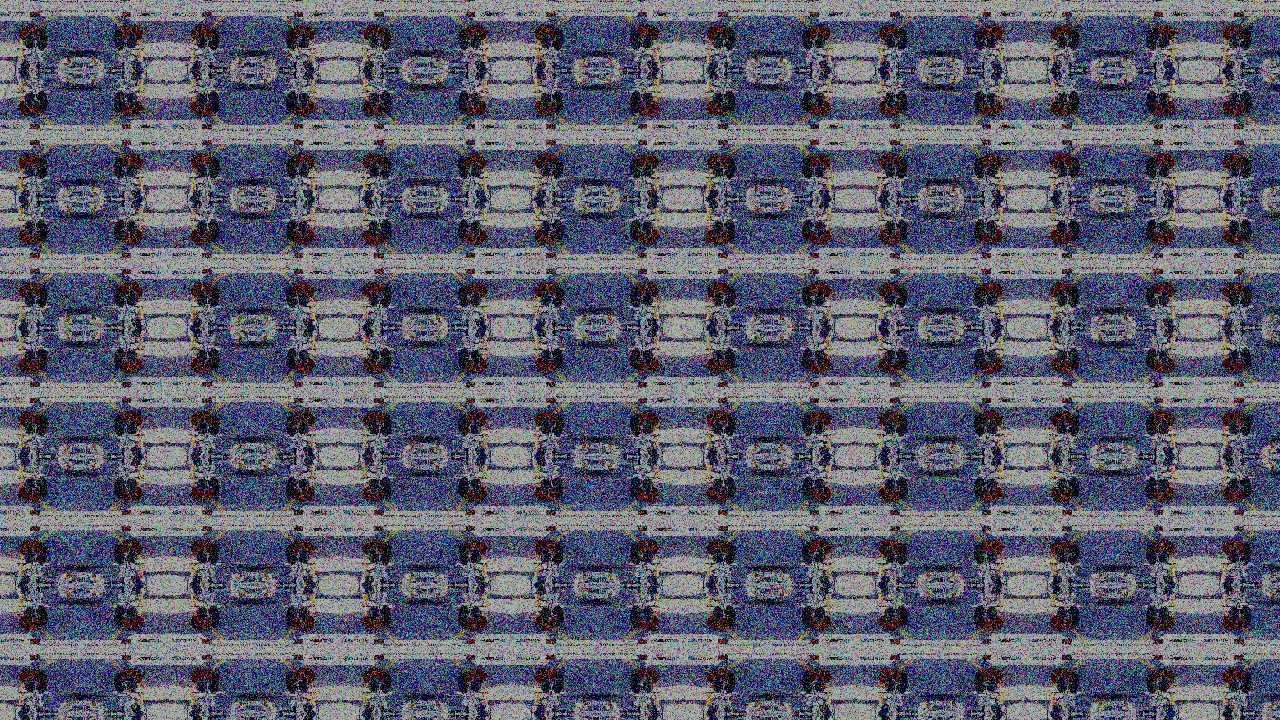chock: (18, 23, 38, 33), (292, 23, 312, 33), (536, 23, 556, 33), (810, 23, 830, 33), (1054, 23, 1074, 33), (18, 105, 38, 115), (292, 105, 312, 115), (536, 105, 556, 115), (810, 105, 830, 115), (1054, 105, 1074, 115), (18, 234, 38, 244), (292, 234, 312, 244), (536, 234, 556, 244), (810, 234, 830, 244), (1054, 234, 1074, 244), (18, 282, 38, 292), (292, 282, 312, 292), (536, 282, 556, 292), (810, 282, 830, 292), (1054, 282, 1074, 292), (18, 411, 38, 421), (292, 411, 312, 421), (536, 411, 556, 421), (810, 411, 830, 421), (1054, 411, 1074, 421), (18, 493, 38, 503), (292, 493, 312, 503), (536, 493, 556, 503), (810, 493, 830, 503), (1054, 493, 1074, 503), (18, 622, 38, 632), (292, 622, 312, 632), (536, 622, 556, 632), (810, 622, 830, 632), (1054, 622, 1074, 632), (18, 670, 38, 680), (292, 670, 312, 680), (536, 670, 556, 680), (810, 670, 830, 680), (1054, 670, 1074, 680), (120, 23, 139, 33), (191, 23, 210, 33), (364, 23, 383, 33), (465, 23, 484, 33), (638, 23, 657, 33), (709, 23, 728, 33), (882, 23, 901, 33), (983, 23, 1002, 33), (1156, 23, 1175, 33), (1227, 23, 1246, 33), (120, 105, 139, 115), (191, 105, 210, 115), (364, 105, 383, 115), (465, 105, 484, 115), (638, 105, 657, 115), (709, 105, 728, 115), (882, 105, 901, 115), (983, 105, 1002, 115), (1156, 105, 1175, 115), (1227, 105, 1246, 115), (120, 234, 139, 244), (191, 234, 210, 244), (364, 234, 383, 244), (465, 234, 484, 244), (638, 234, 657, 244), (709, 234, 728, 244), (882, 234, 901, 244), (983, 234, 1002, 244), (1156, 234, 1175, 244), (1227, 234, 1246, 244), (120, 282, 139, 292), (191, 282, 210, 292), (364, 282, 383, 292), (465, 282, 484, 292), (638, 282, 657, 292), (709, 282, 728, 292), (882, 282, 901, 292), (983, 282, 1002, 292), (1156, 282, 1175, 292), (1227, 282, 1246, 292), (120, 411, 139, 421), (191, 411, 210, 421), (364, 411, 383, 421), (465, 411, 484, 421), (638, 411, 657, 421), (709, 411, 728, 421), (882, 411, 901, 421), (983, 411, 1002, 421), (1156, 411, 1175, 421), (1227, 411, 1246, 421), (120, 493, 139, 503), (191, 493, 210, 503), (364, 493, 383, 503), (465, 493, 484, 503), (638, 493, 657, 503), (709, 493, 728, 503), (882, 493, 901, 503), (983, 493, 1002, 503), (1156, 493, 1175, 503), (1227, 493, 1246, 503), (120, 622, 139, 632), (191, 622, 210, 632), (364, 622, 383, 632), (465, 622, 484, 632), (638, 622, 657, 632), (709, 622, 728, 632), (882, 622, 901, 632), (983, 622, 1002, 632), (1156, 622, 1175, 632), (1227, 622, 1246, 632), (120, 670, 139, 680), (191, 670, 210, 680), (364, 670, 383, 680), (465, 670, 484, 680), (638, 670, 657, 680), (709, 670, 728, 680), (882, 670, 901, 680), (983, 670, 1002, 680), (1156, 670, 1175, 680), (1227, 670, 1246, 680), (18, 153, 38, 162), (292, 153, 312, 162), (536, 153, 556, 162), (810, 153, 830, 162), (1054, 153, 1074, 162), (18, 364, 38, 373), (292, 364, 312, 373), (536, 364, 556, 373), (810, 364, 830, 373), (1054, 364, 1074, 373), (18, 541, 38, 550), (292, 541, 312, 550), (536, 541, 556, 550), (810, 541, 830, 550), (1054, 541, 1074, 550), (120, 153, 139, 162), (191, 153, 210, 162), (364, 153, 383, 162), (465, 153, 484, 162), (638, 153, 657, 162), (709, 153, 728, 162), (882, 153, 901, 162), (983, 153, 1002, 162), (1156, 153, 1175, 162), (1227, 153, 1246, 162), (120, 364, 139, 373), (191, 364, 210, 373), (364, 364, 383, 373), (465, 364, 484, 373), (638, 364, 657, 373), (709, 364, 728, 373), (882, 364, 901, 373), (983, 364, 1002, 373), (1156, 364, 1175, 373), (1227, 364, 1246, 373), (120, 541, 139, 550), (191, 541, 210, 550), (364, 541, 383, 550), (465, 541, 484, 550), (638, 541, 657, 550), (709, 541, 728, 550), (882, 541, 901, 550), (983, 541, 1002, 550), (1156, 541, 1175, 550), (1227, 541, 1246, 550), (15, 28, 24, 38), (306, 28, 315, 38), (533, 28, 542, 38), (824, 28, 833, 38), (1051, 28, 1060, 38), (15, 100, 24, 110), (306, 100, 315, 110), (533, 100, 542, 110), (824, 100, 833, 110), (1051, 100, 1060, 110), (15, 158, 24, 168), (306, 158, 315, 168), (533, 158, 542, 168), (824, 158, 833, 168), (1051, 158, 1060, 168), (15, 229, 24, 239), (306, 229, 315, 239), (533, 229, 542, 239), (824, 229, 833, 239), (1051, 229, 1060, 239), (15, 287, 24, 297), (306, 287, 315, 297), (533, 287, 542, 297), (824, 287, 833, 297), (1051, 287, 1060, 297), (15, 358, 24, 368), (306, 358, 315, 368), (533, 358, 542, 368), (824, 358, 833, 368), (1051, 358, 1060, 368), (15, 416, 24, 426), (306, 416, 315, 426), (533, 416, 542, 426), (824, 416, 833, 426), (1051, 416, 1060, 426), (15, 488, 24, 498), (306, 488, 315, 498), (533, 488, 542, 498), (824, 488, 833, 498), (1051, 488, 1060, 498), (15, 546, 24, 556), (306, 546, 315, 556), (533, 546, 542, 556), (824, 546, 833, 556), (1051, 546, 1060, 556), (15, 617, 24, 627), (306, 617, 315, 627), (533, 617, 542, 627), (824, 617, 833, 627), (1051, 617, 1060, 627), (15, 675, 24, 685), (306, 675, 315, 685), (533, 675, 542, 685), (824, 675, 833, 685), (1051, 675, 1060, 685), (134, 28, 142, 38), (188, 28, 196, 38), (361, 28, 369, 38), (479, 28, 487, 38), (652, 28, 660, 38), (706, 28, 714, 38), (879, 28, 887, 38), (997, 28, 1005, 38), (1170, 28, 1178, 38), (1224, 28, 1232, 38), (134, 100, 142, 110), (188, 100, 196, 110), (361, 100, 369, 110), (479, 100, 487, 110), (652, 100, 660, 110), (706, 100, 714, 110), (879, 100, 887, 110), (997, 100, 1005, 110), (1170, 100, 1178, 110), (1224, 100, 1232, 110), (134, 158, 142, 168), (120, 157, 128, 167), (188, 158, 196, 168), (202, 157, 210, 167), (361, 158, 369, 168), (375, 157, 383, 167), (479, 158, 487, 168), (465, 157, 473, 167), (652, 158, 660, 168), (638, 157, 646, 167), (706, 158, 714, 168), (720, 157, 728, 167), (879, 158, 887, 168), (893, 157, 901, 167), (997, 158, 1005, 168), (983, 157, 991, 167), (1170, 158, 1178, 168), (1156, 157, 1164, 167), (1224, 158, 1232, 168), (1238, 157, 1246, 167), (134, 229, 142, 239), (188, 229, 196, 239), (361, 229, 369, 239), (479, 229, 487, 239), (652, 229, 660, 239), (706, 229, 714, 239), (879, 229, 887, 239), (997, 229, 1005, 239), (1170, 229, 1178, 239), (1224, 229, 1232, 239), (134, 287, 142, 297), (188, 287, 196, 297), (361, 287, 369, 297), (479, 287, 487, 297), (652, 287, 660, 297), (706, 287, 714, 297), (879, 287, 887, 297), (997, 287, 1005, 297), (1170, 287, 1178, 297), (1224, 287, 1232, 297), (134, 358, 142, 368), (120, 359, 128, 369), (188, 358, 196, 368), (202, 359, 210, 369), (361, 358, 369, 368), (375, 359, 383, 369), (479, 358, 487, 368), (465, 359, 473, 369), (652, 358, 660, 368), (638, 359, 646, 369), (706, 358, 714, 368), (720, 359, 728, 369), (879, 358, 887, 368), (893, 359, 901, 369), (997, 358, 1005, 368), (983, 359, 991, 369), (1170, 358, 1178, 368), (1156, 359, 1164, 369), (1224, 358, 1232, 368), (1238, 359, 1246, 369), (134, 416, 142, 426), (188, 416, 196, 426), (361, 416, 369, 426), (479, 416, 487, 426), (652, 416, 660, 426), (706, 416, 714, 426), (879, 416, 887, 426), (997, 416, 1005, 426), (1170, 416, 1178, 426), (1224, 416, 1232, 426), (134, 488, 142, 498), (188, 488, 196, 498), (361, 488, 369, 498), (479, 488, 487, 498), (652, 488, 660, 498), (706, 488, 714, 498), (879, 488, 887, 498), (997, 488, 1005, 498), (1170, 488, 1178, 498), (1224, 488, 1232, 498), (134, 546, 142, 556), (120, 545, 128, 555), (188, 546, 196, 556), (202, 545, 210, 555), (361, 546, 369, 556), (375, 545, 383, 555), (479, 546, 487, 556), (465, 545, 473, 555), (652, 546, 660, 556), (638, 545, 646, 555), (706, 546, 714, 556), (720, 545, 728, 555), (879, 546, 887, 556), (893, 545, 901, 555), (997, 546, 1005, 556), (983, 545, 991, 555), (1170, 546, 1178, 556), (1156, 545, 1164, 555), (1224, 546, 1232, 556), (1238, 545, 1246, 555), (134, 617, 142, 627), (188, 617, 196, 627), (361, 617, 369, 627), (479, 617, 487, 627), (652, 617, 660, 627), (706, 617, 714, 627), (879, 617, 887, 627), (997, 617, 1005, 627), (1170, 617, 1178, 627), (1224, 617, 1232, 627), (134, 675, 142, 685), (188, 675, 196, 685), (361, 675, 369, 685), (479, 675, 487, 685), (652, 675, 660, 685), (706, 675, 714, 685), (879, 675, 887, 685), (997, 675, 1005, 685), (1170, 675, 1178, 685), (1224, 675, 1232, 685), (120, 28, 128, 37), (202, 28, 210, 37), (375, 28, 383, 37), (465, 28, 473, 37), (638, 28, 646, 37), (720, 28, 728, 37), (893, 28, 901, 37), (983, 28, 991, 37), (1156, 28, 1164, 37), (1238, 28, 1246, 37), (120, 101, 128, 110), (202, 101, 210, 110), (375, 101, 383, 110), (465, 101, 473, 110), (638, 101, 646, 110), (720, 101, 728, 110), (893, 101, 901, 110), (983, 101, 991, 110), (1156, 101, 1164, 110), (1238, 101, 1246, 110), (120, 230, 128, 239), (202, 230, 210, 239), (375, 230, 383, 239), (465, 230, 473, 239), (638, 230, 646, 239), (720, 230, 728, 239), (893, 230, 901, 239), (983, 230, 991, 239), (1156, 230, 1164, 239), (1238, 230, 1246, 239), (120, 287, 128, 296), (202, 287, 210, 296), (375, 287, 383, 296), (465, 287, 473, 296), (638, 287, 646, 296), (720, 287, 728, 296), (893, 287, 901, 296), (983, 287, 991, 296), (1156, 287, 1164, 296), (1238, 287, 1246, 296), (120, 416, 128, 425), (202, 416, 210, 425), (375, 416, 383, 425), (465, 416, 473, 425), (638, 416, 646, 425), (720, 416, 728, 425), (893, 416, 901, 425), (983, 416, 991, 425), (1156, 416, 1164, 425), (1238, 416, 1246, 425), (120, 489, 128, 498), (202, 489, 210, 498), (375, 489, 383, 498), (465, 489, 473, 498), (638, 489, 646, 498), (720, 489, 728, 498), (893, 489, 901, 498), (983, 489, 991, 498), (1156, 489, 1164, 498), (1238, 489, 1246, 498), (120, 618, 128, 627), (202, 618, 210, 627), (375, 618, 383, 627), (465, 618, 473, 627), (638, 618, 646, 627), (720, 618, 728, 627), (893, 618, 901, 627), (983, 618, 991, 627), (1156, 618, 1164, 627), (1238, 618, 1246, 627), (120, 675, 128, 684), (202, 675, 210, 684), (375, 675, 383, 684), (465, 675, 473, 684), (638, 675, 646, 684), (720, 675, 728, 684), (893, 675, 901, 684), (983, 675, 991, 684), (1156, 675, 1164, 684), (1238, 675, 1246, 684), (30, 157, 37, 167), (293, 157, 300, 167), (548, 157, 555, 167), (811, 157, 818, 167), (1066, 157, 1073, 167), (30, 359, 37, 369), (293, 359, 300, 369), (548, 359, 555, 369), (811, 359, 818, 369), (1066, 359, 1073, 369), (30, 545, 37, 555), (293, 545, 300, 555), (548, 545, 555, 555), (811, 545, 818, 555), (1066, 545, 1073, 555), (30, 28, 37, 37), (293, 28, 300, 37), (548, 28, 555, 37), (811, 28, 818, 37), (1066, 28, 1073, 37), (30, 101, 37, 110), (293, 101, 300, 110), (548, 101, 555, 110), (811, 101, 818, 110), (1066, 101, 1073, 110), (30, 230, 37, 239), (293, 230, 300, 239), (548, 230, 555, 239), (811, 230, 818, 239), (1066, 230, 1073, 239), (30, 287, 37, 296), (293, 287, 300, 296), (548, 287, 555, 296), (811, 287, 818, 296), (1066, 287, 1073, 296), (30, 416, 37, 425), (293, 416, 300, 425), (548, 416, 555, 425), (811, 416, 818, 425), (1066, 416, 1073, 425), (30, 489, 37, 498), (293, 489, 300, 498), (548, 489, 555, 498), (811, 489, 818, 498), (1066, 489, 1073, 498), (30, 618, 37, 627), (293, 618, 300, 627), (548, 618, 555, 627), (811, 618, 818, 627), (1066, 618, 1073, 627), (30, 675, 37, 684), (293, 675, 300, 684), (548, 675, 555, 684), (811, 675, 818, 684), (1066, 675, 1073, 684), (28, 10, 38, 15), (292, 10, 302, 15), (373, 10, 383, 15), (465, 10, 475, 15), (546, 10, 556, 15), (810, 10, 820, 15), (891, 10, 901, 15), (983, 10, 993, 15), (1064, 10, 1074, 15), (28, 123, 38, 128), (292, 123, 302, 128), (373, 123, 383, 128), (465, 123, 475, 128), (546, 123, 556, 128), (810, 123, 820, 128), (891, 123, 901, 128), (983, 123, 993, 128), (1064, 123, 1074, 128), (28, 139, 38, 144), (292, 139, 302, 144), (373, 139, 383, 144), (465, 139, 475, 144), (546, 139, 556, 144), (810, 139, 820, 144), (891, 139, 901, 144), (983, 139, 993, 144), (1064, 139, 1074, 144), (28, 252, 38, 257), (292, 252, 302, 257), (373, 252, 383, 257), (465, 252, 475, 257), (546, 252, 556, 257), (810, 252, 820, 257), (891, 252, 901, 257), (983, 252, 993, 257), (1064, 252, 1074, 257), (28, 269, 38, 274), (292, 269, 302, 274), (373, 269, 383, 274), (465, 269, 475, 274), (546, 269, 556, 274), (810, 269, 820, 274), (891, 269, 901, 274), (983, 269, 993, 274), (1064, 269, 1074, 274), (28, 382, 38, 387), (292, 382, 302, 387), (373, 382, 383, 387), (465, 382, 475, 387), (546, 382, 556, 387), (810, 382, 820, 387), (891, 382, 901, 387), (983, 382, 993, 387), (1064, 382, 1074, 387), (28, 398, 38, 403), (292, 398, 302, 403), (373, 398, 383, 403), (465, 398, 475, 403), (546, 398, 556, 403), (810, 398, 820, 403), (891, 398, 901, 403), (983, 398, 993, 403), (1064, 398, 1074, 403), (28, 511, 38, 516), (292, 511, 302, 516), (373, 511, 383, 516), (465, 511, 475, 516), (546, 511, 556, 516), (810, 511, 820, 516), (891, 511, 901, 516), (983, 511, 993, 516), (1064, 511, 1074, 516), (28, 527, 38, 532), (292, 527, 302, 532), (373, 527, 383, 532), (465, 527, 475, 532), (546, 527, 556, 532), (810, 527, 820, 532), (891, 527, 901, 532), (983, 527, 993, 532), (1064, 527, 1074, 532), (28, 640, 38, 645), (292, 640, 302, 645), (373, 640, 383, 645), (465, 640, 475, 645), (546, 640, 556, 645), (810, 640, 820, 645), (891, 640, 901, 645), (983, 640, 993, 645), (1064, 640, 1074, 645), (28, 657, 38, 662), (292, 657, 302, 662), (373, 657, 383, 662), (465, 657, 475, 662), (546, 657, 556, 662), (810, 657, 820, 662), (891, 657, 901, 662), (983, 657, 993, 662), (1064, 657, 1074, 662), (120, 10, 129, 15), (201, 10, 210, 15), (638, 10, 647, 15), (719, 10, 728, 15), (1156, 10, 1165, 15), (1237, 10, 1246, 15), (120, 123, 129, 128), (201, 123, 210, 128), (638, 123, 647, 128), (719, 123, 728, 128), (1156, 123, 1165, 128), (1237, 123, 1246, 128), (120, 139, 129, 144), (201, 139, 210, 144), (638, 139, 647, 144), (719, 139, 728, 144), (1156, 139, 1165, 144), (1237, 139, 1246, 144), (120, 252, 129, 257), (201, 252, 210, 257), (638, 252, 647, 257), (719, 252, 728, 257), (1156, 252, 1165, 257), (1237, 252, 1246, 257), (120, 269, 129, 274), (201, 269, 210, 274), (638, 269, 647, 274), (719, 269, 728, 274), (1156, 269, 1165, 274), (1237, 269, 1246, 274), (120, 382, 129, 387), (201, 382, 210, 387), (638, 382, 647, 387), (719, 382, 728, 387), (1156, 382, 1165, 387), (1237, 382, 1246, 387), (120, 398, 129, 403), (201, 398, 210, 403), (638, 398, 647, 403), (719, 398, 728, 403), (1156, 398, 1165, 403), (1237, 398, 1246, 403), (120, 511, 129, 516), (201, 511, 210, 516), (638, 511, 647, 516), (719, 511, 728, 516), (1156, 511, 1165, 516), (1237, 511, 1246, 516), (120, 527, 129, 532), (201, 527, 210, 532), (638, 527, 647, 532), (719, 527, 728, 532), (1156, 527, 1165, 532), (1237, 527, 1246, 532), (120, 640, 129, 645), (201, 640, 210, 645), (638, 640, 647, 645), (719, 640, 728, 645), (1156, 640, 1165, 645), (1237, 640, 1246, 645), (120, 657, 129, 662), (201, 657, 210, 662), (638, 657, 647, 662), (719, 657, 728, 662), (1156, 657, 1165, 662), (1237, 657, 1246, 662)
wheel: (112, 29, 123, 48), (207, 29, 218, 48), (380, 29, 391, 48), (457, 29, 468, 48), (630, 29, 641, 48), (725, 29, 736, 48), (898, 29, 909, 48), (975, 29, 986, 48), (1148, 29, 1159, 48), (1243, 29, 1254, 48), (112, 90, 123, 109), (207, 90, 218, 109), (380, 90, 391, 109), (457, 90, 468, 109), (630, 90, 641, 109), (725, 90, 736, 109), (898, 90, 909, 109), (975, 90, 986, 109), (1148, 90, 1159, 109), (1243, 90, 1254, 109), (112, 159, 123, 178), (207, 159, 218, 178), (380, 159, 391, 178), (457, 159, 468, 178), (630, 159, 641, 178), (725, 159, 736, 178), (898, 159, 909, 178), (975, 159, 986, 178), (1148, 159, 1159, 178), (1243, 159, 1254, 178), (112, 219, 123, 238), (207, 219, 218, 238), (380, 219, 391, 238), (457, 219, 468, 238), (630, 219, 641, 238), (725, 219, 736, 238), (898, 219, 909, 238), (975, 219, 986, 238), (1148, 219, 1159, 238), (1243, 219, 1254, 238), (112, 288, 123, 307), (207, 288, 218, 307), (380, 288, 391, 307), (457, 288, 468, 307), (630, 288, 641, 307), (725, 288, 736, 307), (898, 288, 909, 307), (975, 288, 986, 307), (1148, 288, 1159, 307), (1243, 288, 1254, 307), (112, 348, 123, 367), (207, 348, 218, 367), (380, 348, 391, 367), (457, 348, 468, 367), (630, 348, 641, 367), (725, 348, 736, 367), (898, 348, 909, 367), (975, 348, 986, 367), (1148, 348, 1159, 367), (1243, 348, 1254, 367), (112, 417, 123, 436), (207, 417, 218, 436), (380, 417, 391, 436), (457, 417, 468, 436), (630, 417, 641, 436), (725, 417, 736, 436), (898, 417, 909, 436), (975, 417, 986, 436), (1148, 417, 1159, 436), (1243, 417, 1254, 436), (112, 478, 123, 497), (207, 478, 218, 497), (380, 478, 391, 497), (457, 478, 468, 497), (630, 478, 641, 497), (725, 478, 736, 497), (898, 478, 909, 497), (975, 478, 986, 497), (1148, 478, 1159, 497), (1243, 478, 1254, 497), (112, 547, 123, 566), (207, 547, 218, 566), (380, 547, 391, 566), (457, 547, 468, 566), (630, 547, 641, 566), (725, 547, 736, 566), (898, 547, 909, 566), (975, 547, 986, 566), (1148, 547, 1159, 566), (1243, 547, 1254, 566), (112, 607, 123, 626), (207, 607, 218, 626), (380, 607, 391, 626), (457, 607, 468, 626), (630, 607, 641, 626), (725, 607, 736, 626), (898, 607, 909, 626), (975, 607, 986, 626), (1148, 607, 1159, 626), (1243, 607, 1254, 626), (112, 676, 123, 695), (207, 676, 218, 695), (380, 676, 391, 695), (457, 676, 468, 695), (630, 676, 641, 695), (725, 676, 736, 695), (898, 676, 909, 695), (975, 676, 986, 695), (1148, 676, 1159, 695), (1243, 676, 1254, 695), (35, 29, 45, 48), (285, 29, 295, 48), (553, 29, 563, 48), (803, 29, 813, 48), (1071, 29, 1081, 48), (35, 90, 45, 109), (285, 90, 295, 109), (553, 90, 563, 109), (803, 90, 813, 109), (1071, 90, 1081, 109), (35, 159, 45, 178), (285, 159, 295, 178), (553, 159, 563, 178), (803, 159, 813, 178), (1071, 159, 1081, 178), (35, 219, 45, 238), (285, 219, 295, 238), (553, 219, 563, 238), (803, 219, 813, 238), (1071, 219, 1081, 238), (35, 288, 45, 307), (285, 288, 295, 307), (553, 288, 563, 307), (803, 288, 813, 307), (1071, 288, 1081, 307), (35, 348, 45, 367), (285, 348, 295, 367), (553, 348, 563, 367), (803, 348, 813, 367), (1071, 348, 1081, 367), (35, 417, 45, 436), (285, 417, 295, 436), (553, 417, 563, 436), (803, 417, 813, 436), (1071, 417, 1081, 436), (35, 478, 45, 497), (285, 478, 295, 497), (553, 478, 563, 497), (803, 478, 813, 497), (1071, 478, 1081, 497), (35, 547, 45, 566), (285, 547, 295, 566), (553, 547, 563, 566), (803, 547, 813, 566), (1071, 547, 1081, 566), (35, 607, 45, 626), (285, 607, 295, 626), (553, 607, 563, 626), (803, 607, 813, 626), (1071, 607, 1081, 626), (35, 676, 45, 695), (285, 676, 295, 695), (553, 676, 563, 695), (803, 676, 813, 695), (1071, 676, 1081, 695), (367, 220, 378, 236), (470, 220, 481, 236), (885, 220, 896, 236), (988, 220, 999, 236), (367, 290, 378, 306), (470, 290, 481, 306), (885, 290, 896, 306), (988, 290, 999, 306), (367, 608, 378, 624), (470, 608, 481, 624), (885, 608, 896, 624), (988, 608, 999, 624), (367, 678, 378, 694), (470, 678, 481, 694), (885, 678, 896, 694), (988, 678, 999, 694), (367, 32, 378, 47), (470, 32, 481, 47), (885, 32, 896, 47), (988, 32, 999, 47), (367, 91, 378, 106), (470, 91, 481, 106), (885, 91, 896, 106), (988, 91, 999, 106), (367, 161, 378, 176), (470, 161, 481, 176), (885, 161, 896, 176), (988, 161, 999, 176), (367, 350, 378, 365), (470, 350, 481, 365), (885, 350, 896, 365), (988, 350, 999, 365), (367, 420, 378, 435), (470, 420, 481, 435), (885, 420, 896, 435), (988, 420, 999, 435), (367, 479, 378, 494), (470, 479, 481, 494), (885, 479, 896, 494), (988, 479, 999, 494), (367, 549, 378, 564), (470, 549, 481, 564), (885, 549, 896, 564), (988, 549, 999, 564), (22, 220, 32, 236), (125, 220, 135, 236), (195, 220, 205, 236), (298, 220, 308, 236), (540, 220, 550, 236), (643, 220, 653, 236), (713, 220, 723, 236), (816, 220, 826, 236), (1058, 220, 1068, 236), (1161, 220, 1171, 236), (1231, 220, 1241, 236), (22, 290, 32, 306), (125, 290, 135, 306), (195, 290, 205, 306), (298, 290, 308, 306), (540, 290, 550, 306), (643, 290, 653, 306), (713, 290, 723, 306), (816, 290, 826, 306), (1058, 290, 1068, 306), (1161, 290, 1171, 306), (1231, 290, 1241, 306), (22, 608, 32, 624), (125, 608, 135, 624), (195, 608, 205, 624), (298, 608, 308, 624), (540, 608, 550, 624), (643, 608, 653, 624), (713, 608, 723, 624), (816, 608, 826, 624), (1058, 608, 1068, 624), (1161, 608, 1171, 624), (1231, 608, 1241, 624), (22, 678, 32, 694), (125, 678, 135, 694), (195, 678, 205, 694), (298, 678, 308, 694), (540, 678, 550, 694), (643, 678, 653, 694), (713, 678, 723, 694), (816, 678, 826, 694), (1058, 678, 1068, 694), (1161, 678, 1171, 694), (1231, 678, 1241, 694), (22, 32, 32, 47), (125, 32, 135, 47), (195, 32, 205, 47), (298, 32, 308, 47), (540, 32, 550, 47), (643, 32, 653, 47), (713, 32, 723, 47), (816, 32, 826, 47), (1058, 32, 1068, 47), (1161, 32, 1171, 47), (1231, 32, 1241, 47), (22, 91, 32, 106), (125, 91, 135, 106), (195, 91, 205, 106), (298, 91, 308, 106), (540, 91, 550, 106), (643, 91, 653, 106), (713, 91, 723, 106), (816, 91, 826, 106), (1058, 91, 1068, 106), (1161, 91, 1171, 106), (1231, 91, 1241, 106), (22, 161, 32, 176), (125, 161, 135, 176), (195, 161, 205, 176), (298, 161, 308, 176), (540, 161, 550, 176), (643, 161, 653, 176), (713, 161, 723, 176), (816, 161, 826, 176), (1058, 161, 1068, 176), (1161, 161, 1171, 176), (1231, 161, 1241, 176), (22, 350, 32, 365), (125, 350, 135, 365), (195, 350, 205, 365), (298, 350, 308, 365), (540, 350, 550, 365), (643, 350, 653, 365), (713, 350, 723, 365), (816, 350, 826, 365), (1058, 350, 1068, 365), (1161, 350, 1171, 365), (1231, 350, 1241, 365), (22, 420, 32, 435), (125, 420, 135, 435), (195, 420, 205, 435), (298, 420, 308, 435), (540, 420, 550, 435), (643, 420, 653, 435), (713, 420, 723, 435), (816, 420, 826, 435), (1058, 420, 1068, 435), (1161, 420, 1171, 435), (1231, 420, 1241, 435), (22, 479, 32, 494), (125, 479, 135, 494), (195, 479, 205, 494), (298, 479, 308, 494), (540, 479, 550, 494), (643, 479, 653, 494), (713, 479, 723, 494), (816, 479, 826, 494), (1058, 479, 1068, 494), (1161, 479, 1171, 494), (1231, 479, 1241, 494), (22, 549, 32, 564), (125, 549, 135, 564), (195, 549, 205, 564), (298, 549, 308, 564), (540, 549, 550, 564), (643, 549, 653, 564), (713, 549, 723, 564), (816, 549, 826, 564), (1058, 549, 1068, 564), (1161, 549, 1171, 564), (1231, 549, 1241, 564)
